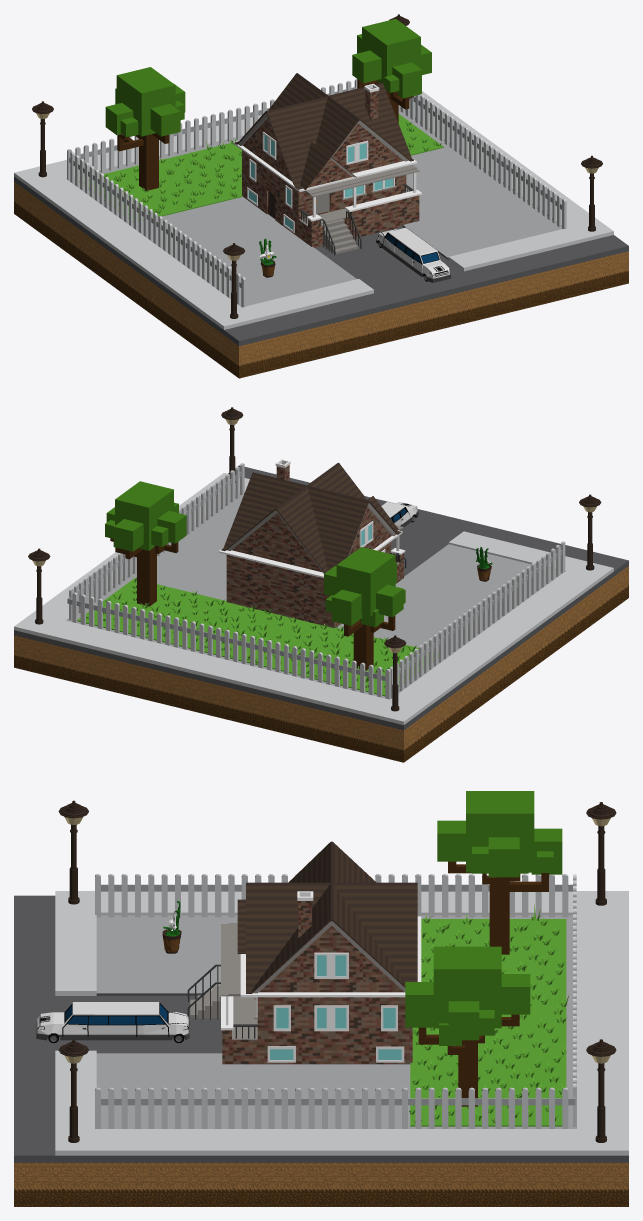
3 renders of one model, top to bottom at view 1: azimuth 30°, elevation 25°; view 2: azimuth 150°, elevation 25°; view 3: azimuth 270°, elevation 25°, orthographic. The views are drawn at different scales.
Visible parts, largest first — view 1: Cube.004, Cube.117, VEHICLES_LIMOUSINE; view 2: Cube.004, Cube.117, VEHICLES_LIMOUSINE; view 3: Cube.004, Cube.117, VEHICLES_LIMOUSINE, OBJRANDOM_MONJA BLANCA.
Part boxes in pixels (left/top/right/bottom): Cube.004: left=14, top=14, right=628, bottom=378; Cube.117: left=233, top=73, right=421, bottom=255; VEHICLES_LIMOUSINE: left=375, top=227, right=451, bottom=282; Cube.004: left=14, top=407, right=628, bottom=762; Cube.117: left=218, top=459, right=406, bottom=627; VEHICLES_LIMOUSINE: left=381, top=502, right=418, bottom=527; Cube.004: left=14, top=791, right=628, bottom=1206; Cube.117: left=187, top=841, right=421, bottom=1064; VEHICLES_LIMOUSINE: left=36, top=1002, right=189, bottom=1043; OBJRANDOM_MONJA BLANCA: left=162, top=901, right=181, bottom=953.
Bounding box in the file's own units: 4000 × 1702 × 4000.
31 materials, 4 textured.
